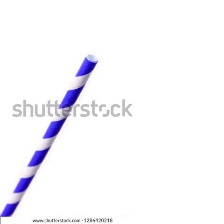drinking_straw: (0, 48, 102, 220)
